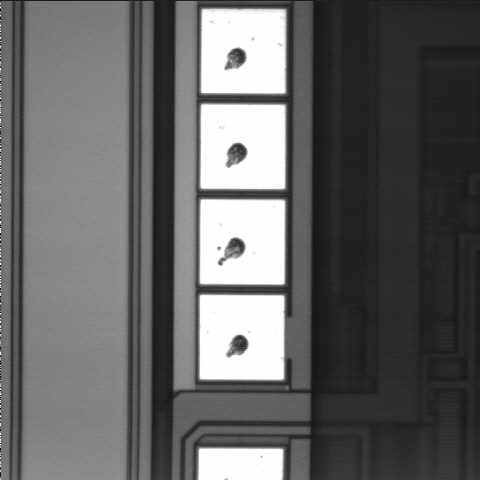pad: (200, 199, 285, 285), (200, 104, 285, 189), (201, 9, 286, 93), (200, 295, 284, 380)
